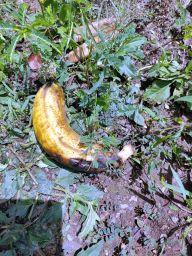banana: (32, 74, 140, 175)
